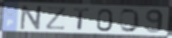0: (96, 7, 116, 32)
9: (145, 9, 164, 34)
N: (19, 5, 46, 32)
O: (119, 8, 141, 34)
T: (72, 7, 91, 31)
Z: (44, 6, 68, 31)
